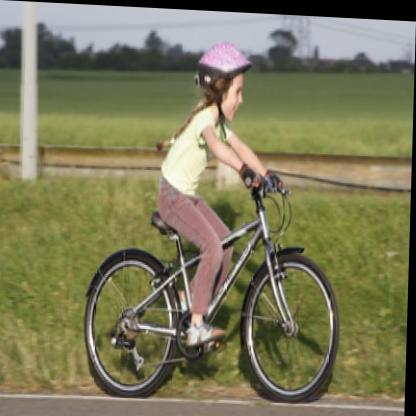With Helmet: (194, 30, 255, 127)
